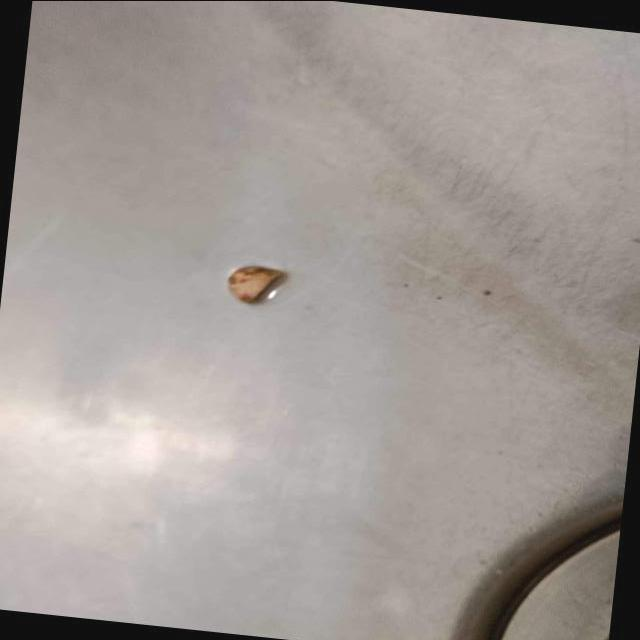General: (0, 0, 639, 639)
Sharps: (226, 263, 285, 302)
